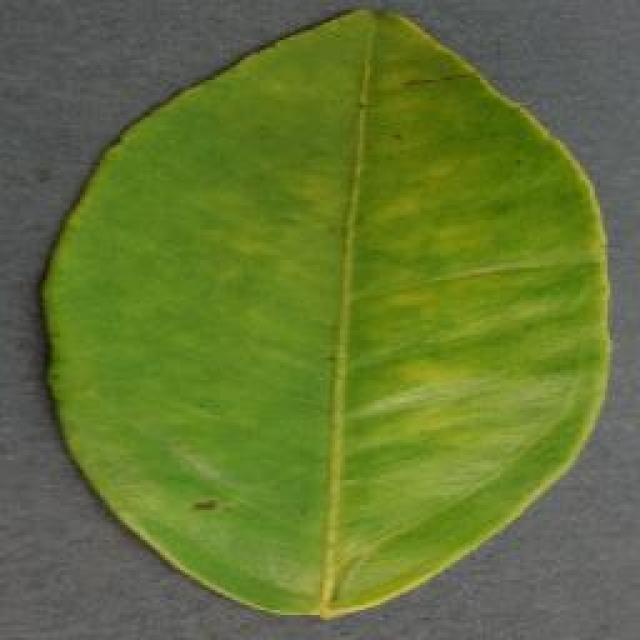Orange_Haunglongbing_Citrus_greening: (103, 119, 552, 540)
